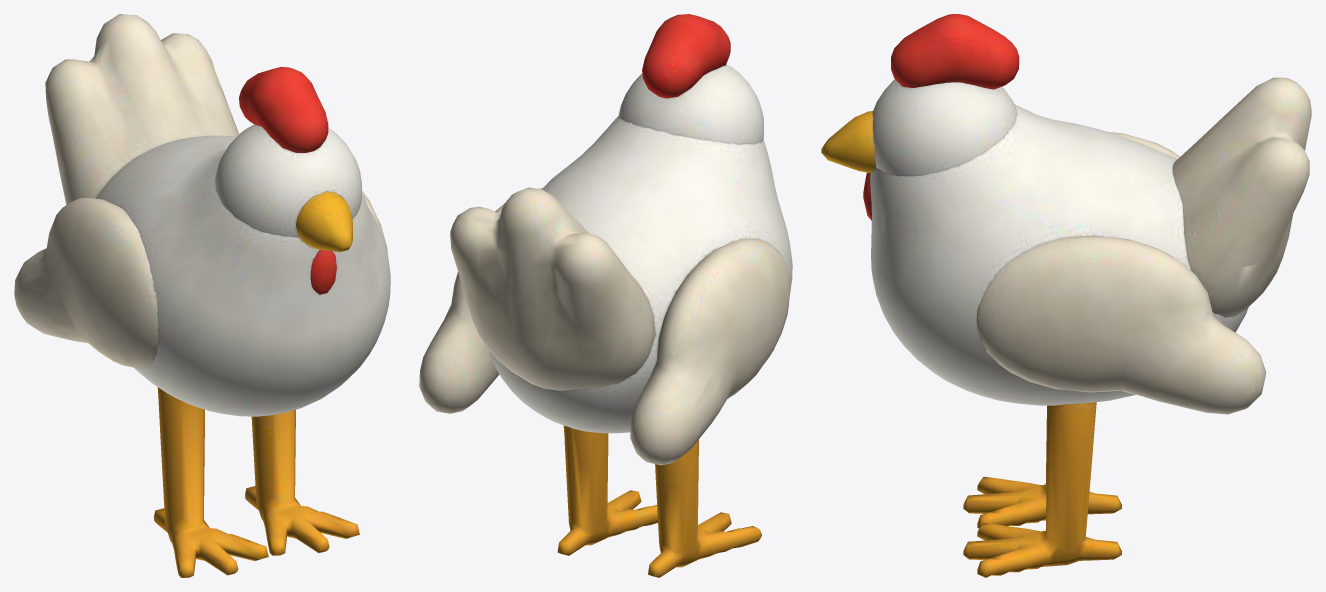
Rendered from animal_chicken.glb.
3 views of the same model, side by side, from view 1: azimuth 30°, elevation 25°; view 2: azimuth 150°, elevation 25°; view 3: azimuth 270°, elevation 25° (orthographic). The views are drawn at different scales.
Parts seen in each view (by area): view 1: animal_chicken, head, leg0, leg1; view 2: animal_chicken, head, leg1, leg0; view 3: animal_chicken, head, leg1, leg0.
Part boxes in pixels (x1,y1,x2,y2): animal_chicken: [14, 14, 390, 416]; head: [215, 66, 361, 294]; leg0: [153, 387, 268, 577]; leg1: [245, 409, 359, 555]; animal_chicken: [419, 116, 792, 465]; head: [618, 14, 763, 144]; leg1: [557, 425, 657, 555]; leg0: [648, 439, 761, 577]; animal_chicken: [870, 77, 1311, 414]; head: [821, 14, 1019, 220]; leg1: [963, 402, 1121, 577]; leg0: [963, 405, 1121, 528].
Size of the model in its own units: 0.18 by 0.3166 by 0.2692.
1 material, 1 textured.
